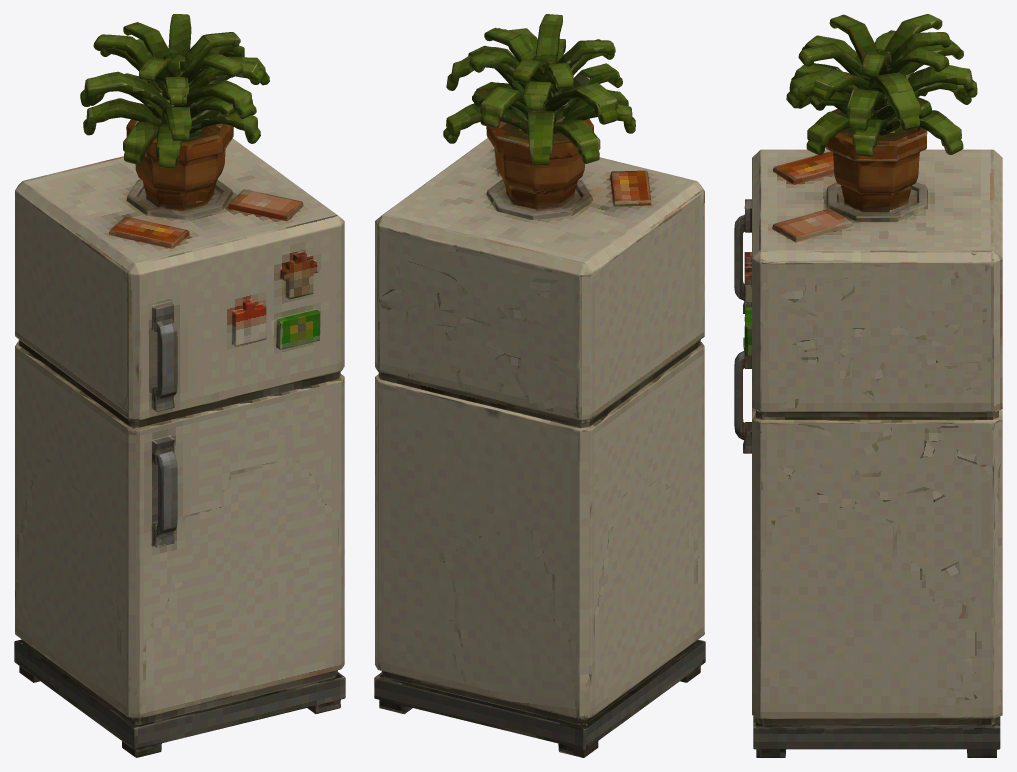
File: fridge_psx.glb
3 views of the same model, side by side, from view 1: azimuth 30°, elevation 25°; view 2: azimuth 150°, elevation 25°; view 3: azimuth 270°, elevation 25° (orthographic). The views are drawn at different scales.
Parts seen in each view (by area): view 1: node_0; view 2: node_0; view 3: node_0.
Part boxes in pixels (x1=…): node_0: x1=14, y1=14, x2=345, y2=757; node_0: x1=374, y1=14, x2=705, y2=757; node_0: x1=734, y1=14, x2=1002, y2=757.
Size of the model in its own units: 0.3785 by 1.08 by 0.3954.
1 material, 1 textured.
